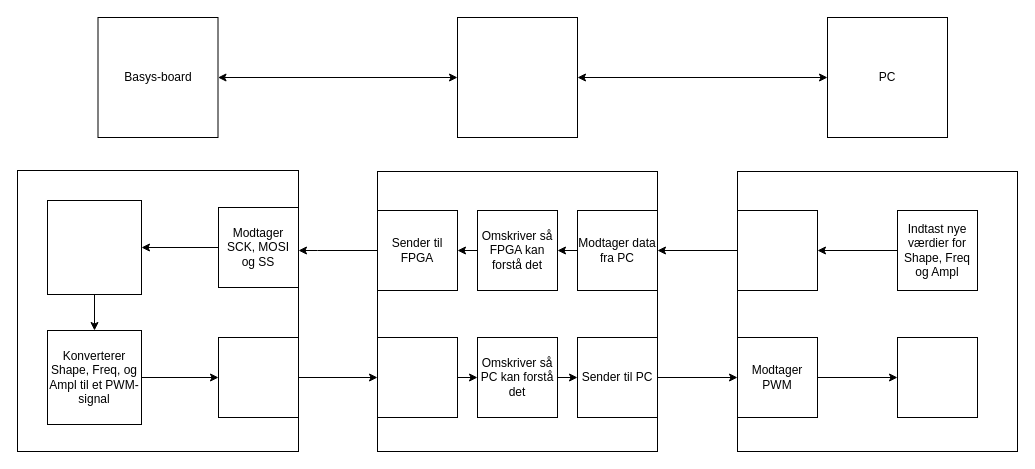
Image size: 1035x469. Some labels were removed from this diagram. Here are the shapes that lost their labels. From the top down, the centre of each, then its label:
At pixel 517 77: "Atmega".
At pixel 94 247: "Bruger addresen af andet sendt data fra MOSI, til at lave Shape, Freq og Ampl".
At pixel 777 250: "Sender værdier".
At pixel 258 377: "Sender PWMOut".
At pixel 417 377: "Modtager PWM fra FPGA".
At pixel 937 377: "Opdater værdier for signal".
